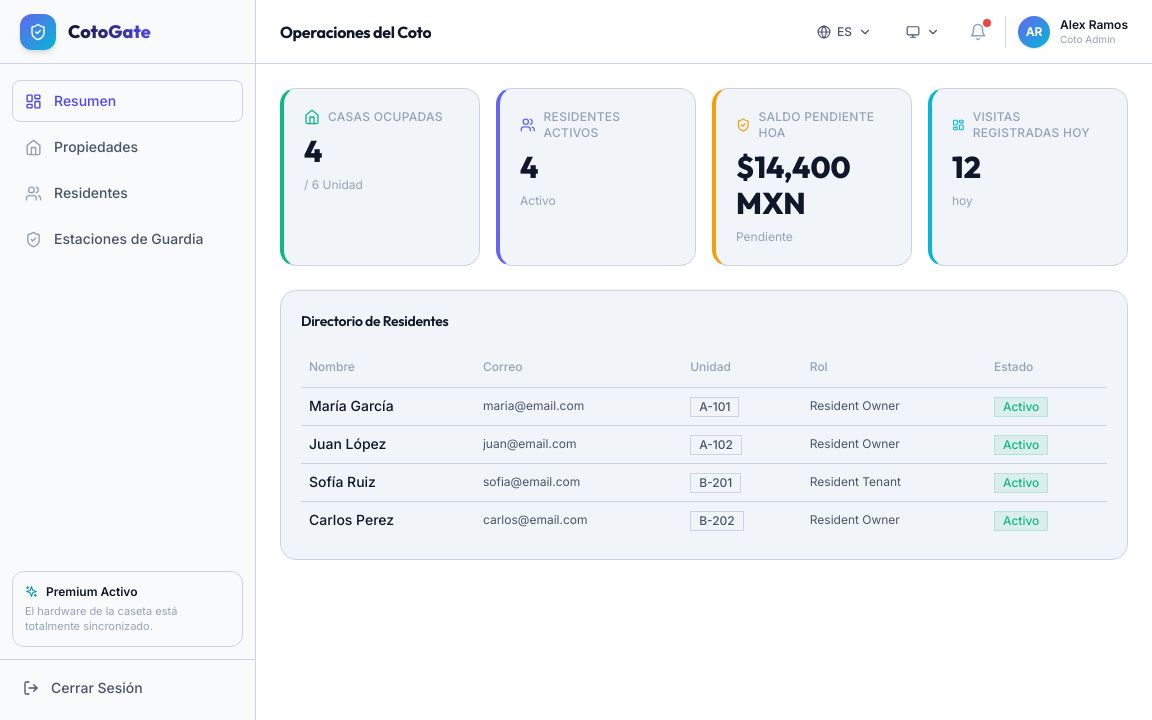
it: CotoAdminDashboard › opens Unit Scaffold modal and validates empty submission
expect the heading "Operaciones del Coto" is shown: met, box [280, 20, 431, 44]
What coordinates should you click on to do the following:
click the button with id "nav-units"
I would click on:
 (128, 147)
Its box is [12, 126, 243, 168].
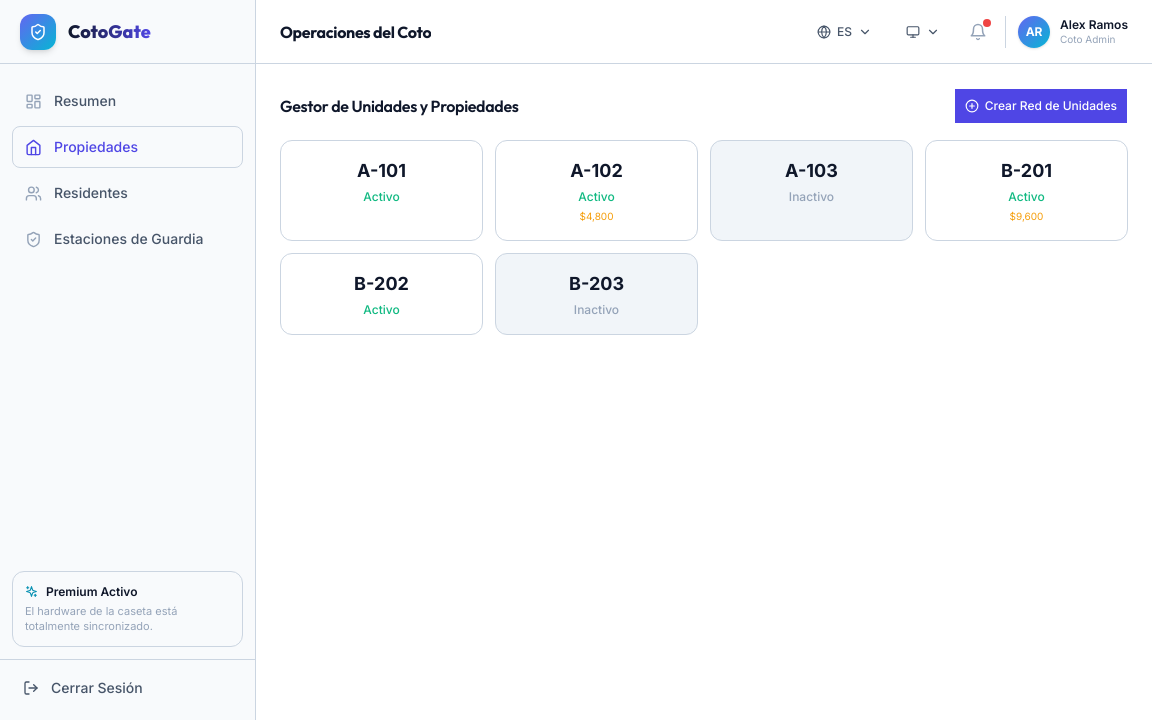
expect the heading "Gestor de Unidades y Propiedades" is shown: met, box [280, 94, 518, 118]
What coordinates should you click on to do the following:
click the button with id "btn-scaffold-unit"
I would click on:
 (1041, 106)
Its box is [954, 88, 1128, 124].
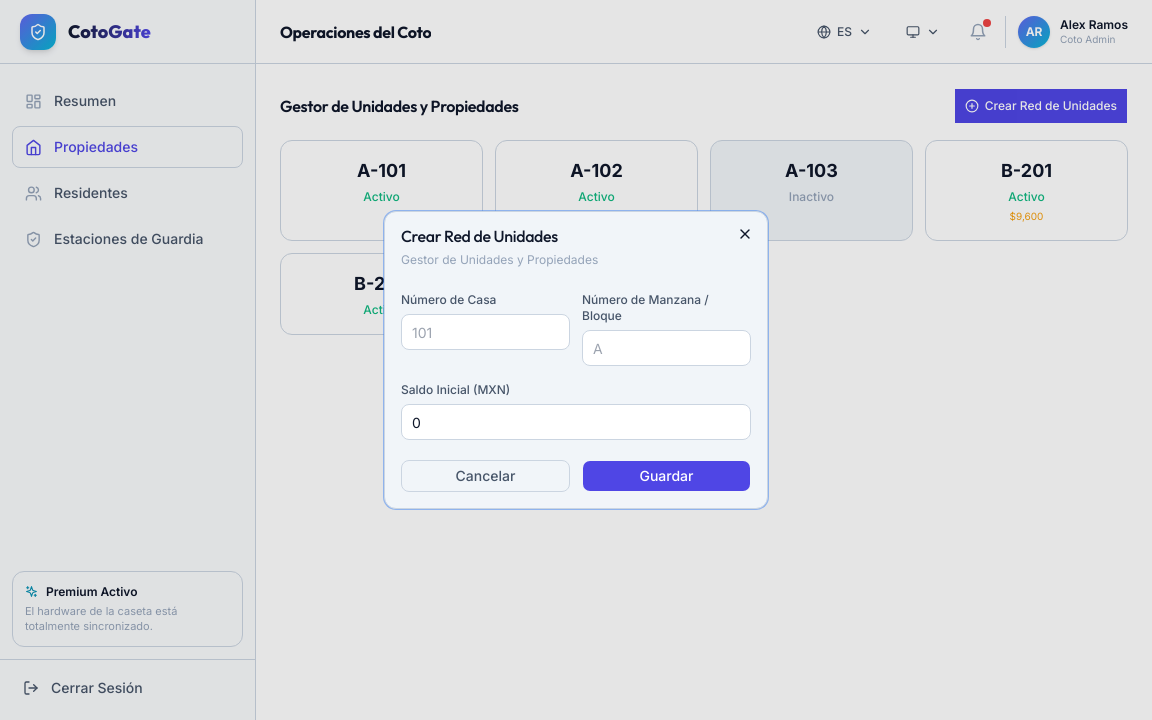
expect the field labelled "Número de Casa" is shown: met, box [401, 314, 570, 350]
Submit empty → validation errors
What coordinates should you click on to do the following:
click the button "Guardar"
I would click on:
 (666, 476)
Its box is [582, 460, 751, 492].
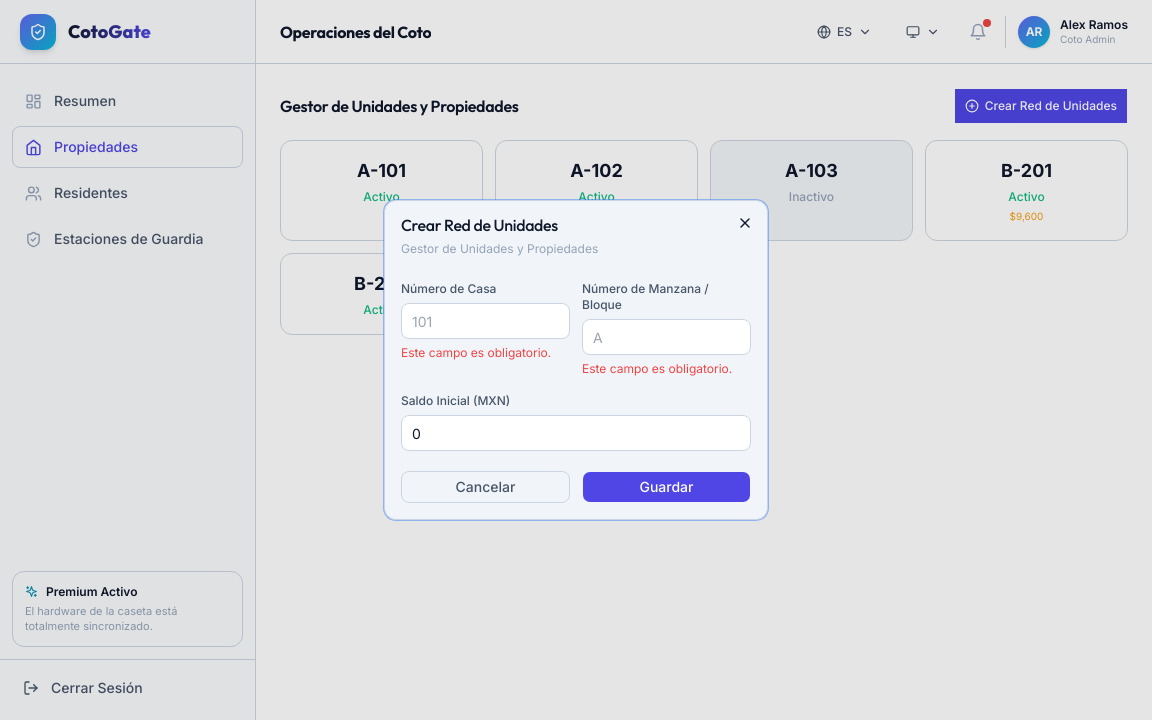
expect the text "Este campo es obligatorio." below "Número de Casa" is shown: met, box [401, 345, 551, 360]
